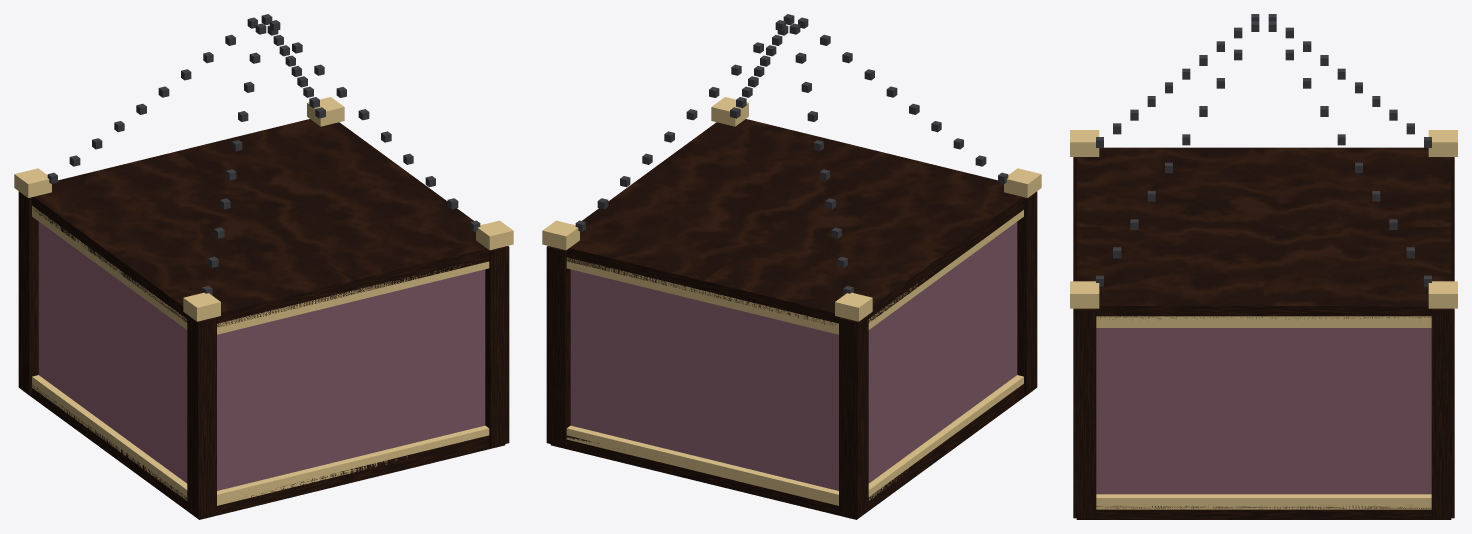
File: mm_banner.glb
3 renders of one model, left to right at view 1: azimuth 30°, elevation 25°; view 2: azimuth 150°, elevation 25°; view 3: azimuth 270°, elevation 25°, orthographic. The views are drawn at different scales.
Parts seen in each view (by area): view 1: wood_dark, plate, gold, iron; view 2: wood_dark, plate, gold, iron; view 3: wood_dark, plate, gold, iron.
Boxes of the visible parts, <box> form: wood_dark: <box>18,119,509,519</box>; plate: <box>38,222,485,490</box>; gold: <box>14,97,513,505</box>; iron: <box>47,14,480,295</box>; wood_dark: <box>546,119,1037,519</box>; plate: <box>570,222,1017,490</box>; gold: <box>542,97,1041,505</box>; iron: <box>575,14,1008,295</box>; wood_dark: <box>1073,147,1454,519</box>; plate: <box>1096,328,1431,494</box>; gold: <box>1070,130,1457,509</box>; iron: <box>1096,14,1431,286</box>.
Bounding box in the file's own units: 2.38 × 3.25 × 2.38.
Materials: 4 (1 with a texture image).
